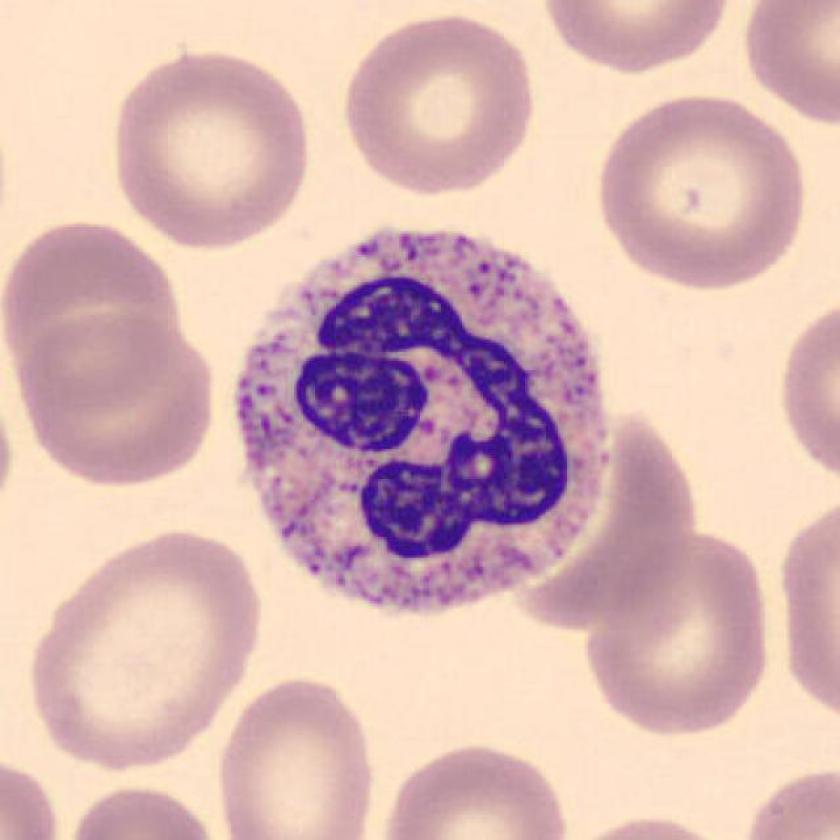neutrophil: (232, 231, 610, 617)
